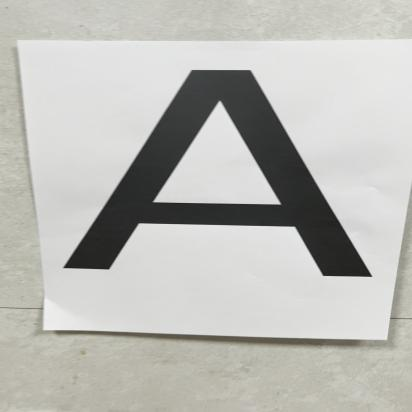seat: (58, 53, 389, 301)
